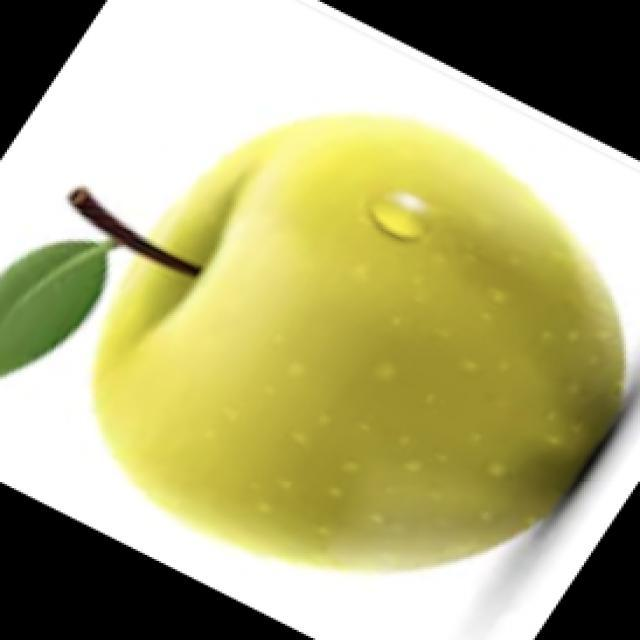Fresh Apple: (88, 98, 615, 620)
